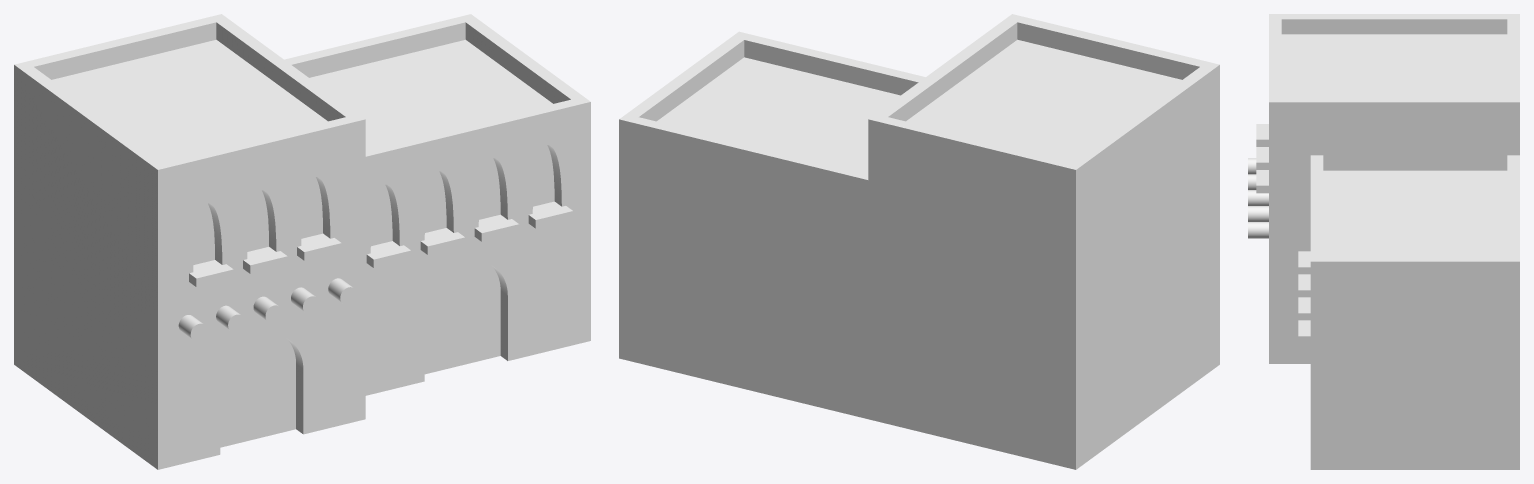
Rendered from building_3.gltf.
The picture shows the model from 3 angles, left to right: view 1: azimuth 30°, elevation 25°; view 2: azimuth 150°, elevation 25°; view 3: azimuth 270°, elevation 25°; orthographic projection. The views are drawn at different scales.
Visible parts, largest first — view 1: building_3; view 2: building_3; view 3: building_3.
Part boxes in pixels (x1,y1,x2,y2): building_3: [14, 14, 590, 469]; building_3: [619, 14, 1219, 469]; building_3: [1248, 14, 1519, 469].
Bounding box in the file's own units: 11 × 6.9 × 6.5.
1 material, 1 textured.
